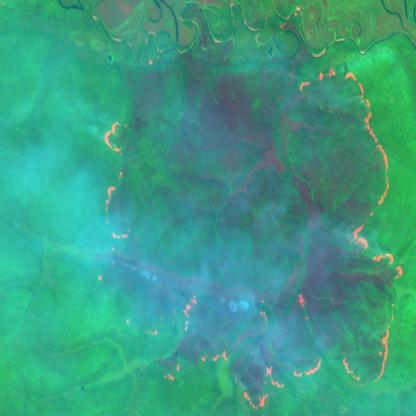fire: (160, 61, 408, 416), (101, 117, 133, 244)
